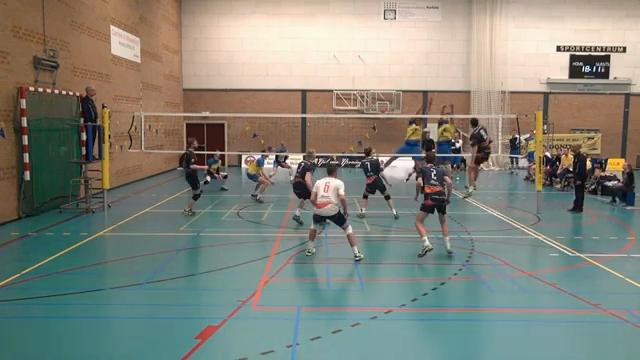attacco: (455, 115, 493, 200)
muro: (381, 97, 433, 181), (433, 97, 459, 193)
